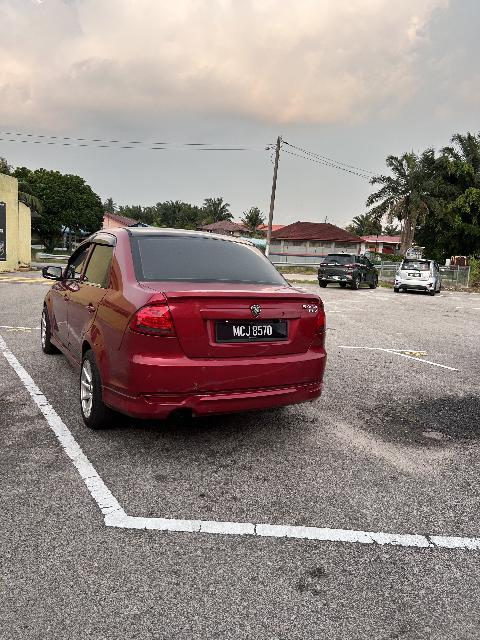License_Plate: (215, 321, 290, 343), (329, 275, 343, 281), (410, 274, 423, 278)
MCJ8570: (215, 321, 290, 343)
car: (25, 224, 331, 427), (318, 253, 383, 293), (395, 259, 443, 295)
